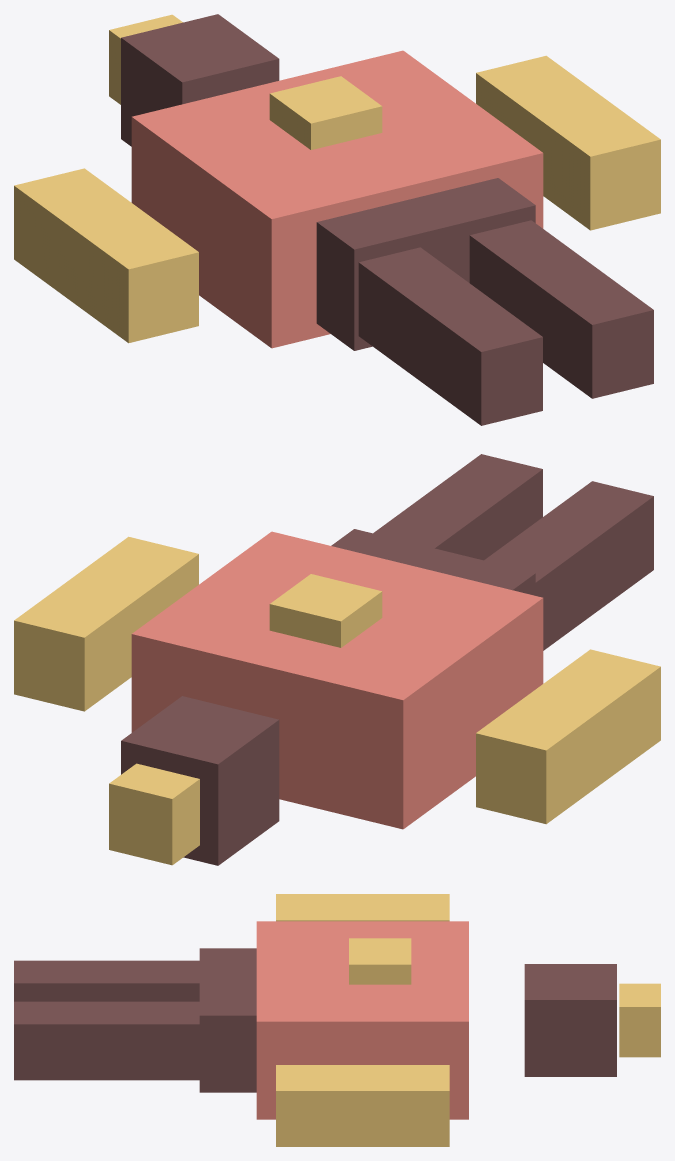
The model's file is ember-vale_male_victory.glb.
3 renders of one model, top to bottom at view 1: azimuth 30°, elevation 25°; view 2: azimuth 150°, elevation 25°; view 3: azimuth 270°, elevation 25°, orthographic. The views are drawn at different scales.
Visible parts, largest first — view 1: ember-vale_male_body; view 2: ember-vale_male_body; view 3: ember-vale_male_body.
Part boxes in pixels (x1,y1,x2,y2): ember-vale_male_body: (14,14,660,425); ember-vale_male_body: (14,454,660,865); ember-vale_male_body: (14,894,660,1146).
Bounding box in the file's own units: 1.34 × 0.3758 × 1.87.
